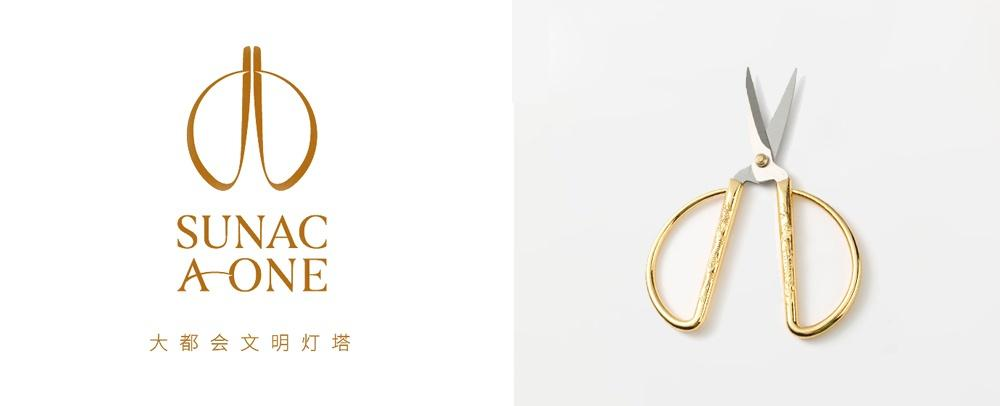scissor: (629, 52, 890, 345)
